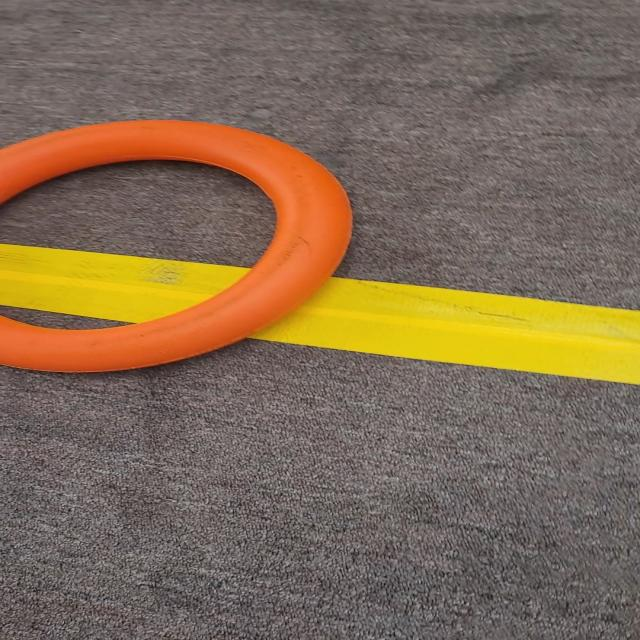note: (0, 116, 367, 393)
